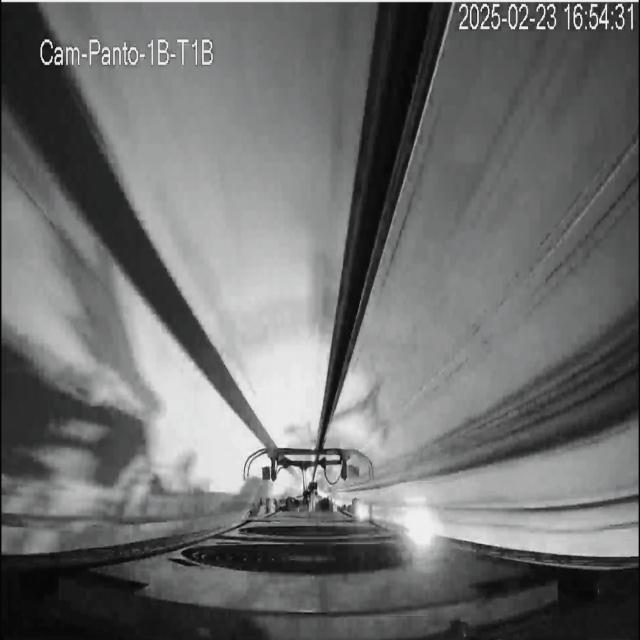Camera Stamp: (40, 31, 218, 69)
Date Stamp: (456, 3, 631, 32)
No - Spark: (246, 444, 376, 516), (397, 499, 442, 551)
